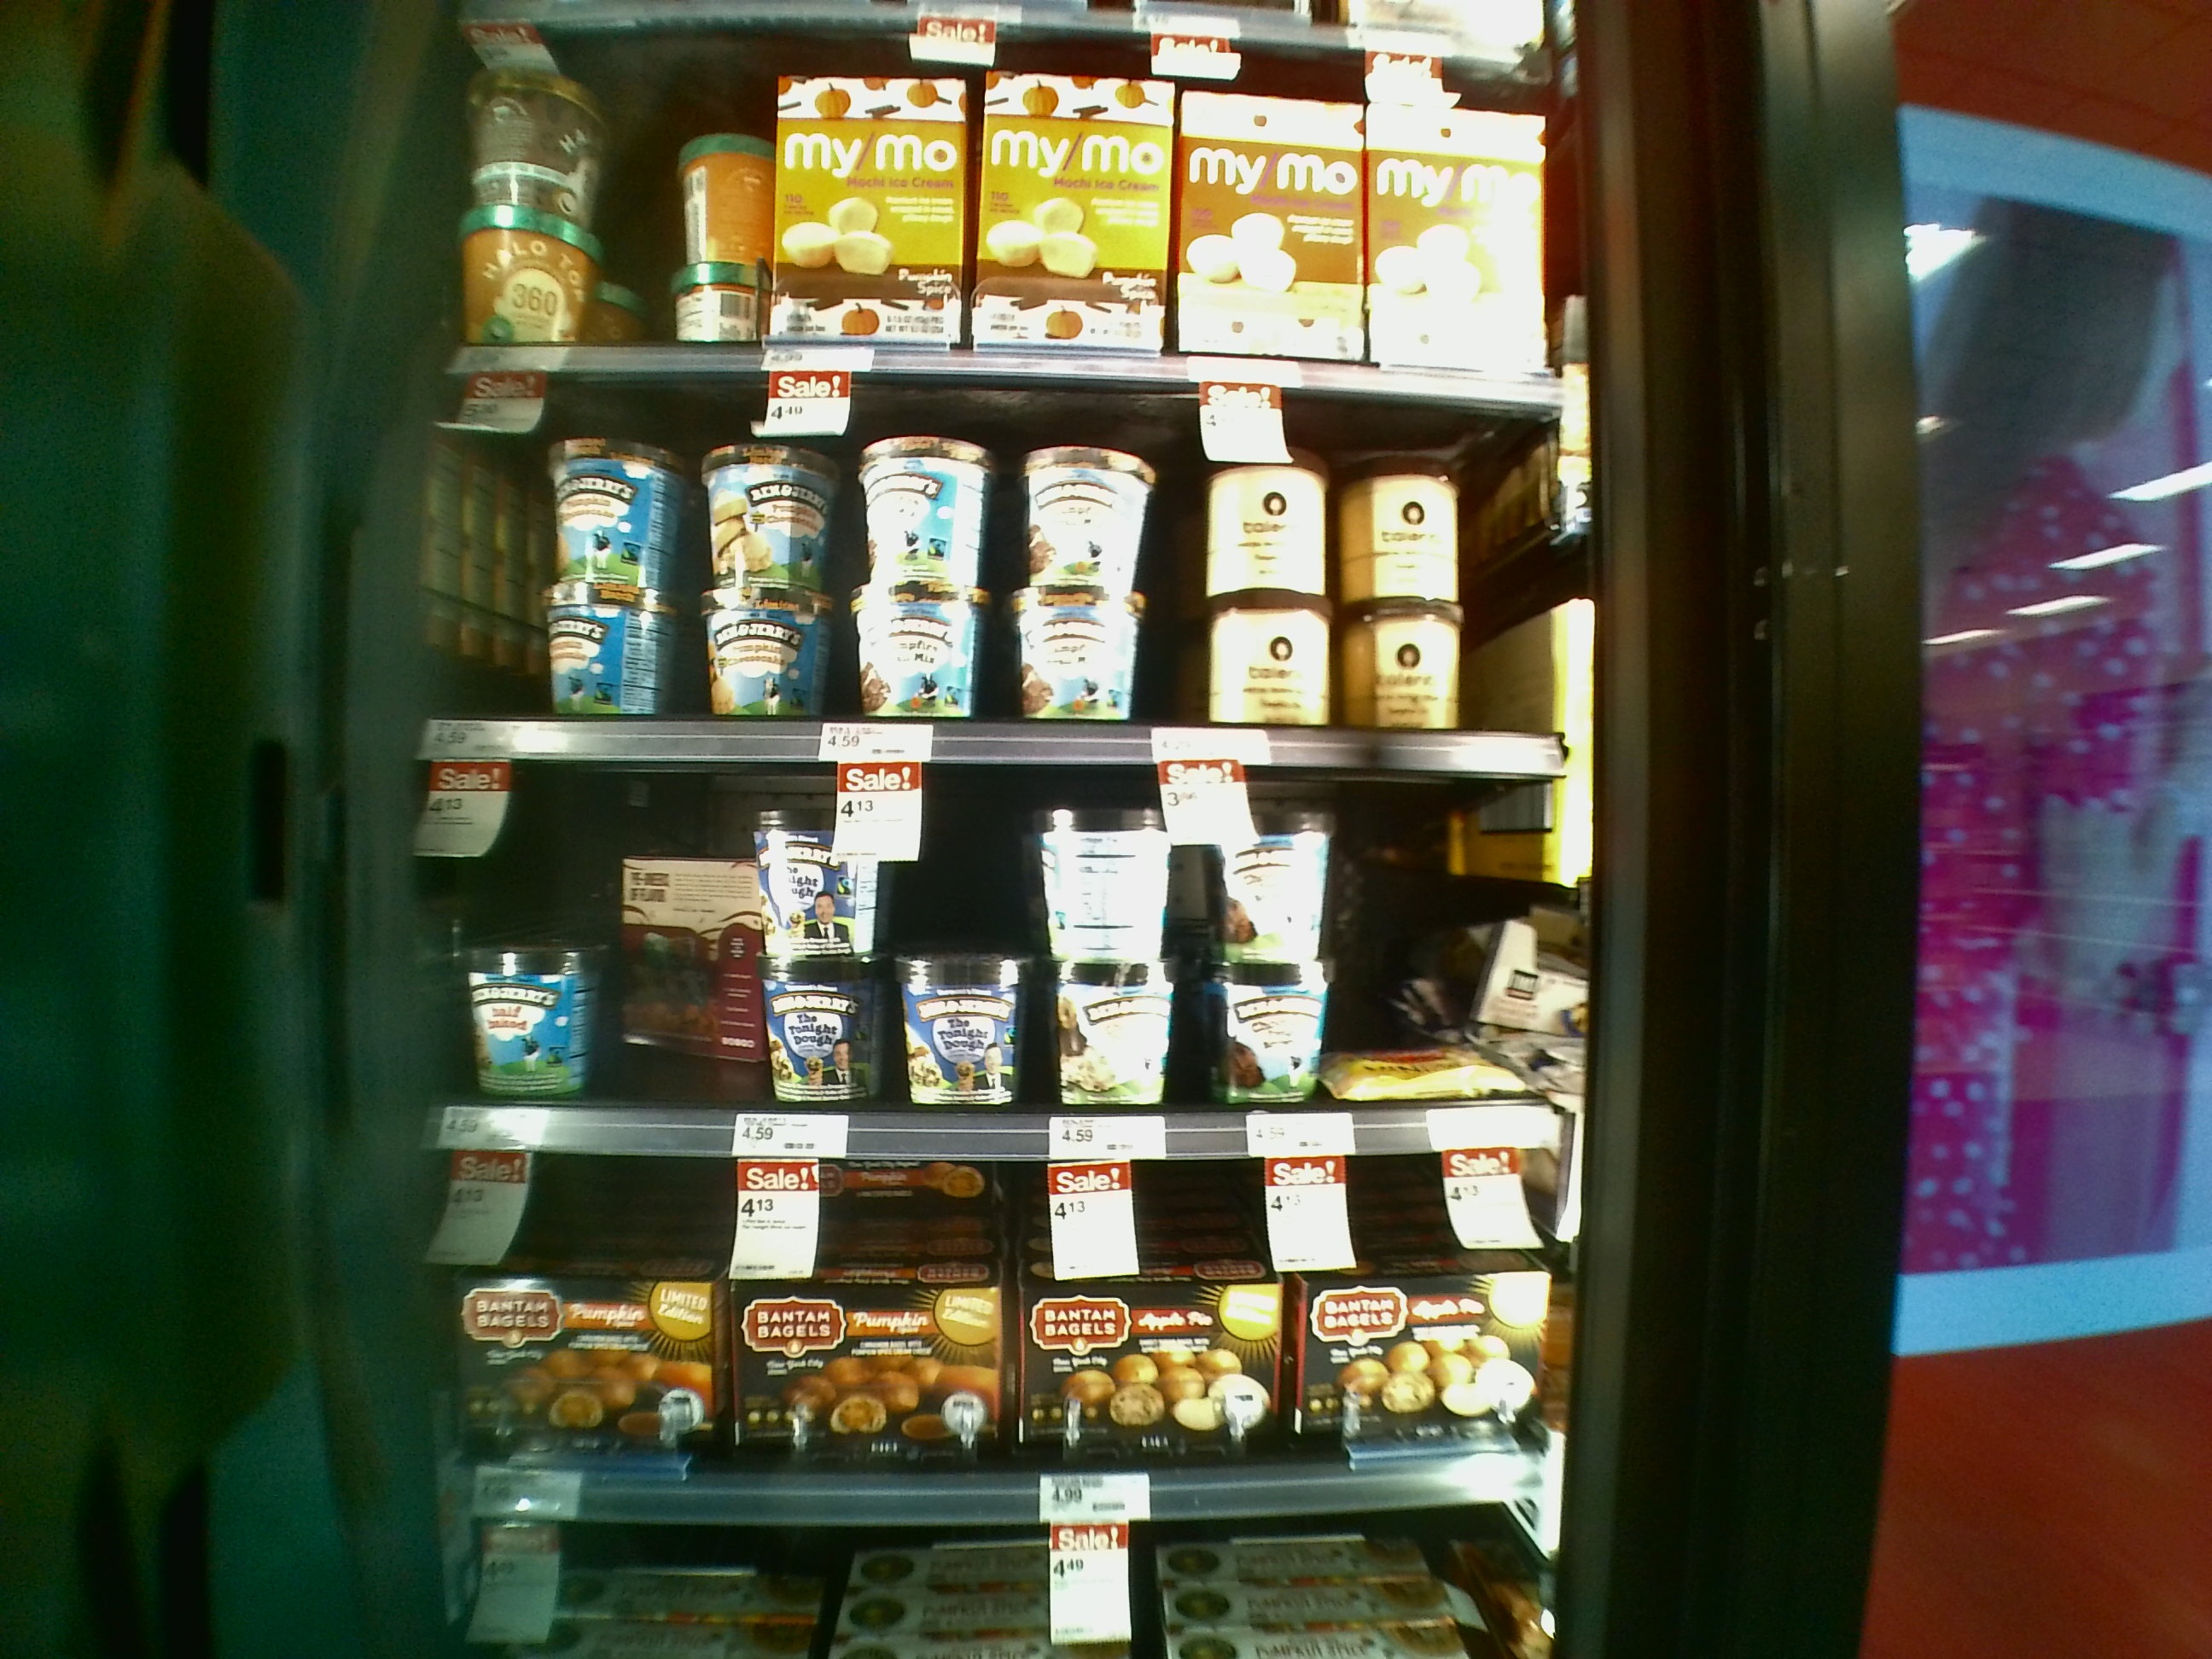shelf: (404, 718, 1571, 1166), (423, 369, 1594, 788), (402, 1122, 1575, 1521)
